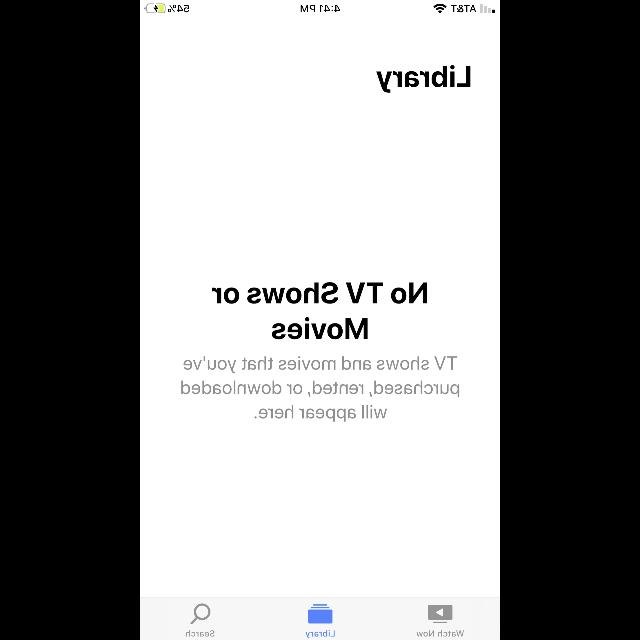icon: (308, 604, 332, 624), (428, 605, 452, 623), (191, 604, 211, 624)
text: (181, 356, 459, 422), (213, 282, 427, 340), (376, 65, 470, 93), (416, 630, 464, 636), (306, 630, 334, 638), (186, 630, 214, 636)
uppertaskbar: (140, 0, 500, 14)
